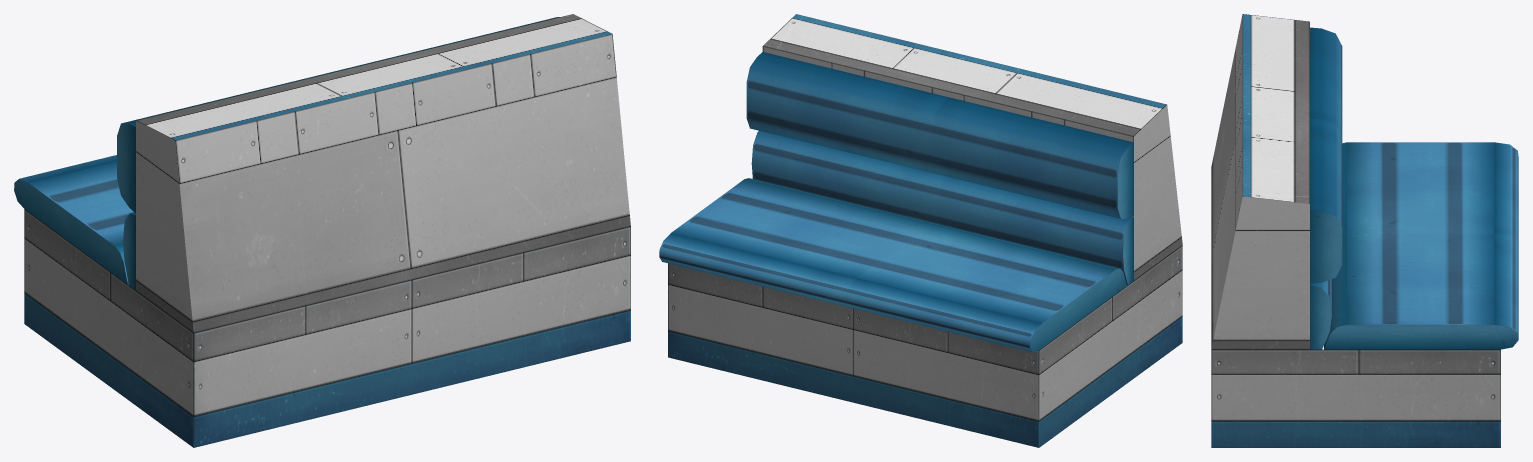
The model's file is Seat_Middle_01.FBX.
The picture shows the model from 3 angles, left to right: view 1: azimuth 30°, elevation 25°; view 2: azimuth 150°, elevation 25°; view 3: azimuth 270°, elevation 25°; orthographic projection. The views are drawn at different scales.
Visible parts, largest first — view 1: Seat_Middle_01; view 2: Seat_Middle_01; view 3: Seat_Middle_01.
Boxes of the visible parts, x1,y1,x2,y2 form: Seat_Middle_01: (14,14,630,447); Seat_Middle_01: (659,14,1182,447); Seat_Middle_01: (1211,14,1518,447).
Size of the model in its own units: 67.26 by 43.22 by 47.87.
